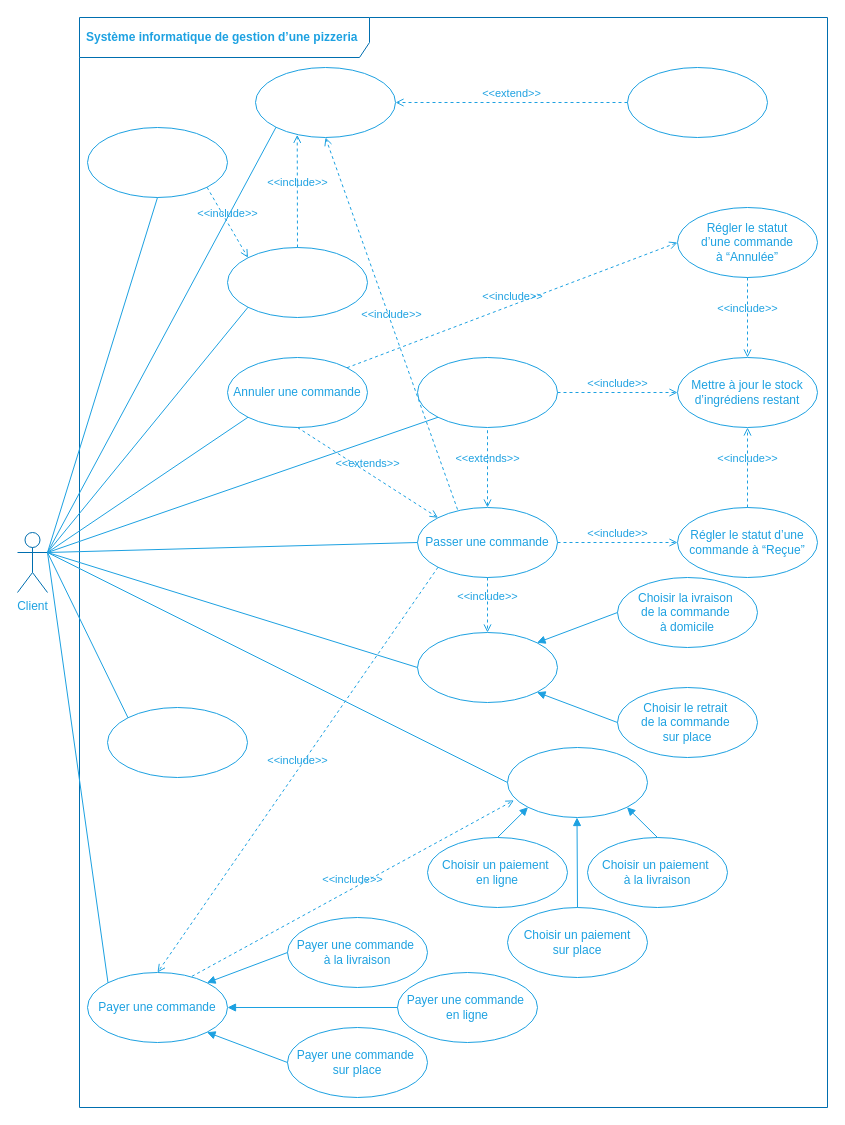
Some shapes in this 845 by 1125 pixel diagram are drawn without their labels. The centre of each missing label's shape, as x and y in pixels:
Choisir le mode de livraison de la commande: point 487,667
Choisir le mode de paiement: point 577,782
Créer un compte client: point 697,102
Modifier une commande: point 487,392
Savoir quelles pizzas peuvent encore être réalisées: point 177,742
Se connecter: point 325,102
Se déconnecter: point 297,282
Supprimer un compte “Client”: point 157,162
